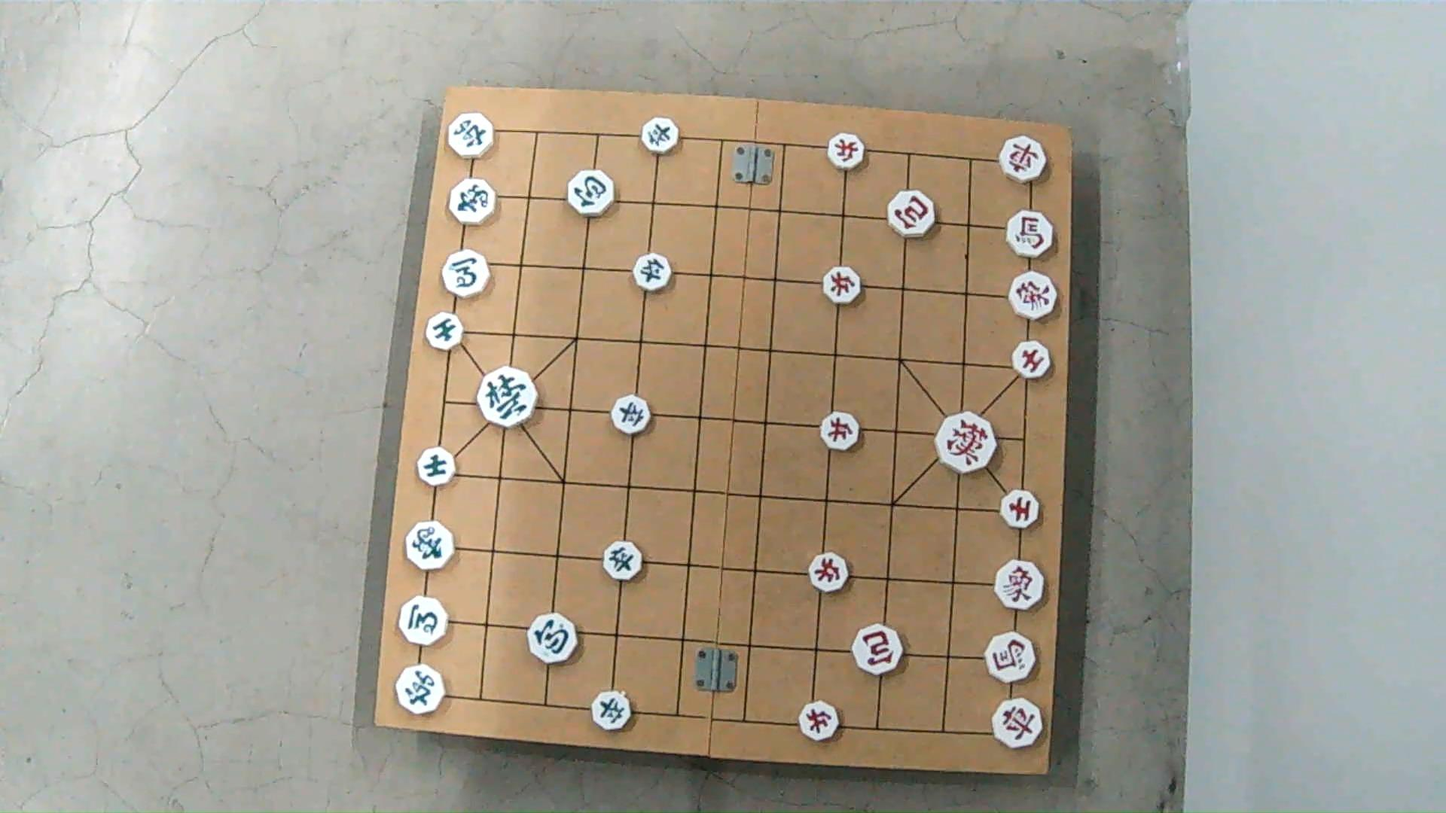cha_green: (394, 665, 446, 713), (447, 115, 498, 159)
cha_red: (990, 699, 1045, 747), (999, 137, 1048, 180)
jol_green: (611, 395, 654, 437), (630, 252, 674, 291), (601, 543, 645, 579), (592, 694, 634, 731), (639, 120, 679, 153)
jol_red: (825, 132, 871, 172), (816, 416, 862, 452), (800, 704, 843, 740), (819, 268, 862, 303), (809, 555, 852, 589)
ma_green: (440, 250, 492, 297), (398, 599, 451, 645)
ma_red: (984, 628, 1036, 687), (1002, 206, 1055, 260)
po_green: (527, 611, 579, 665), (565, 169, 620, 215)
po_red: (889, 189, 939, 238), (851, 627, 903, 674)
sa_green: (426, 312, 468, 354), (414, 449, 456, 484)
sa_red: (999, 489, 1044, 532), (1010, 341, 1052, 376)
sang_green: (402, 519, 459, 572), (444, 178, 499, 227)
sang_red: (1007, 270, 1057, 321), (992, 561, 1045, 607)
wang_green: (477, 367, 539, 425)
wang_red: (935, 417, 999, 473)
